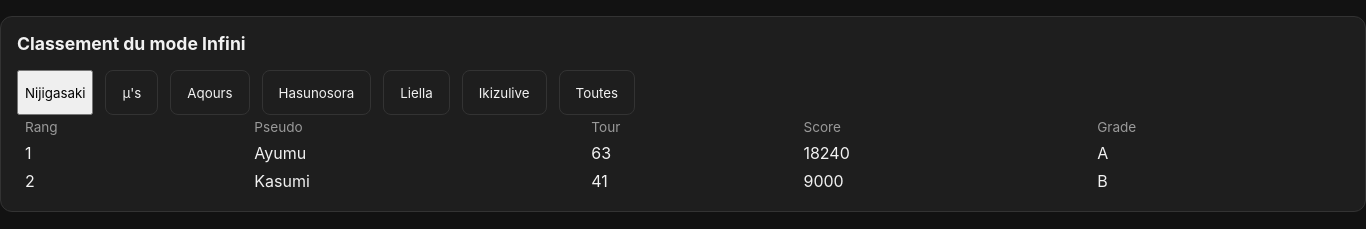
Scenario: Leaderboard › switches board when another franchise is chosen
The width and height of the screenshot is (1366, 229).
Click the button "Aqours" at (210, 93), box [170,70,250,115]
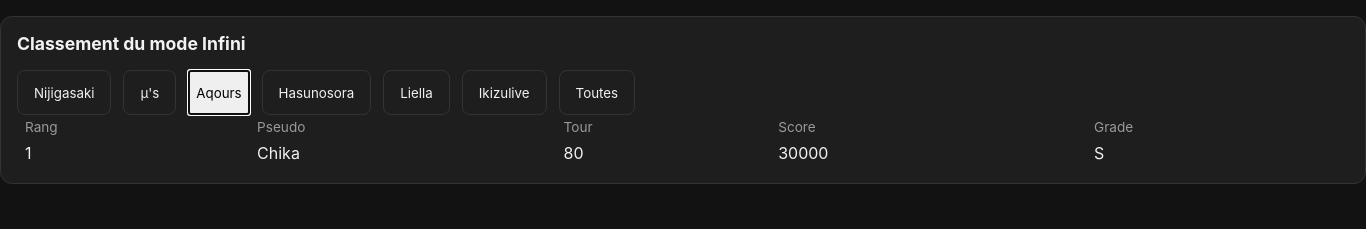
Check: the text "Chika" is shown, box [249,139,556,167]
Check: the text "Ayumu" is gone
